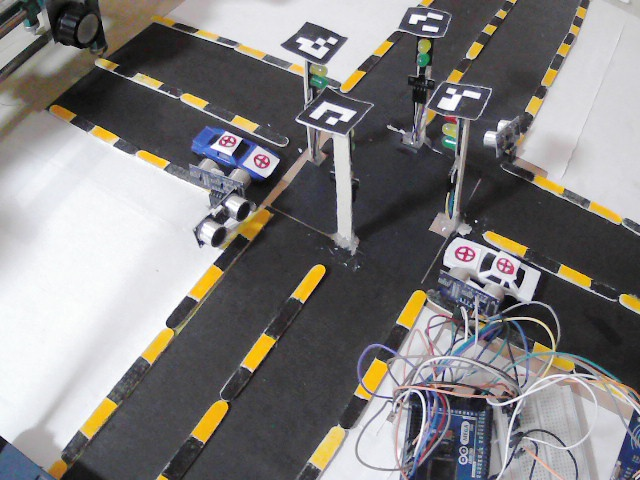aruco_marker: (301, 88, 372, 134), (426, 80, 490, 121), (284, 23, 346, 64), (397, 6, 452, 40)
emergency_vehicle: (442, 239, 543, 303), (189, 124, 281, 180)
traffic_light: (406, 38, 437, 104), (440, 114, 466, 185), (307, 65, 327, 96)
uno_breadboard: (492, 380, 594, 480), (394, 387, 502, 480), (435, 266, 505, 325), (192, 188, 252, 248), (187, 159, 251, 206), (607, 399, 640, 480), (484, 108, 522, 160)
